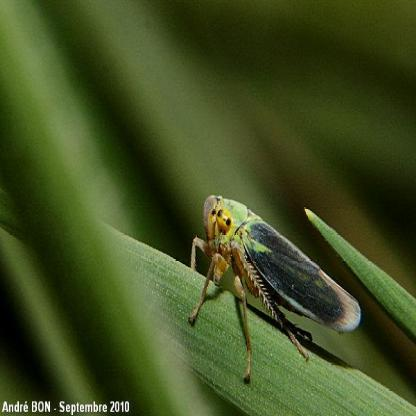Green-Leafhopper: (184, 192, 360, 386)
